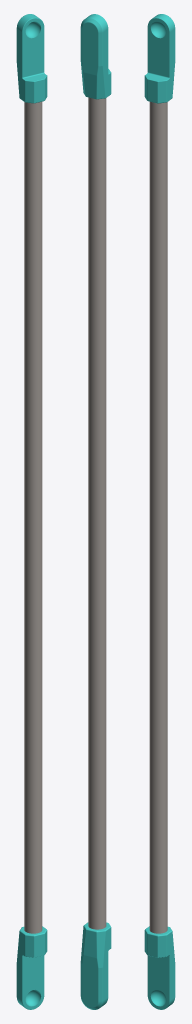
The model's file is AbiFlexx D4-1300_link_lower.obj.
3 views of the same model, side by side, from view 1: azimuth 30°, elevation 25°; view 2: azimuth 150°, elevation 25°; view 3: azimuth 330°, elevation 25° (orthographic).
Parts seen in each view (by area): view 1: mesh 2 Body-Move/Copy1, mesh 1 AbiFlexx D4-1300_link_lower; view 2: mesh 2 Body-Move/Copy1, mesh 1 AbiFlexx D4-1300_link_lower; view 3: mesh 2 Body-Move/Copy1, mesh 1 AbiFlexx D4-1300_link_lower.
Boxes of the visible parts, <box> form: mesh 2 Body-Move/Copy1: <box>24,101,42,933</box>; mesh 1 AbiFlexx D4-1300_link_lower: <box>16,14,47,1009</box>; mesh 2 Body-Move/Copy1: <box>88,97,106,929</box>; mesh 1 AbiFlexx D4-1300_link_lower: <box>80,14,111,1009</box>; mesh 2 Body-Move/Copy1: <box>149,101,167,933</box>; mesh 1 AbiFlexx D4-1300_link_lower: <box>144,14,175,1009</box>.
Bounding box in the file's own units: 0.023 × 0.973 × 0.024.
